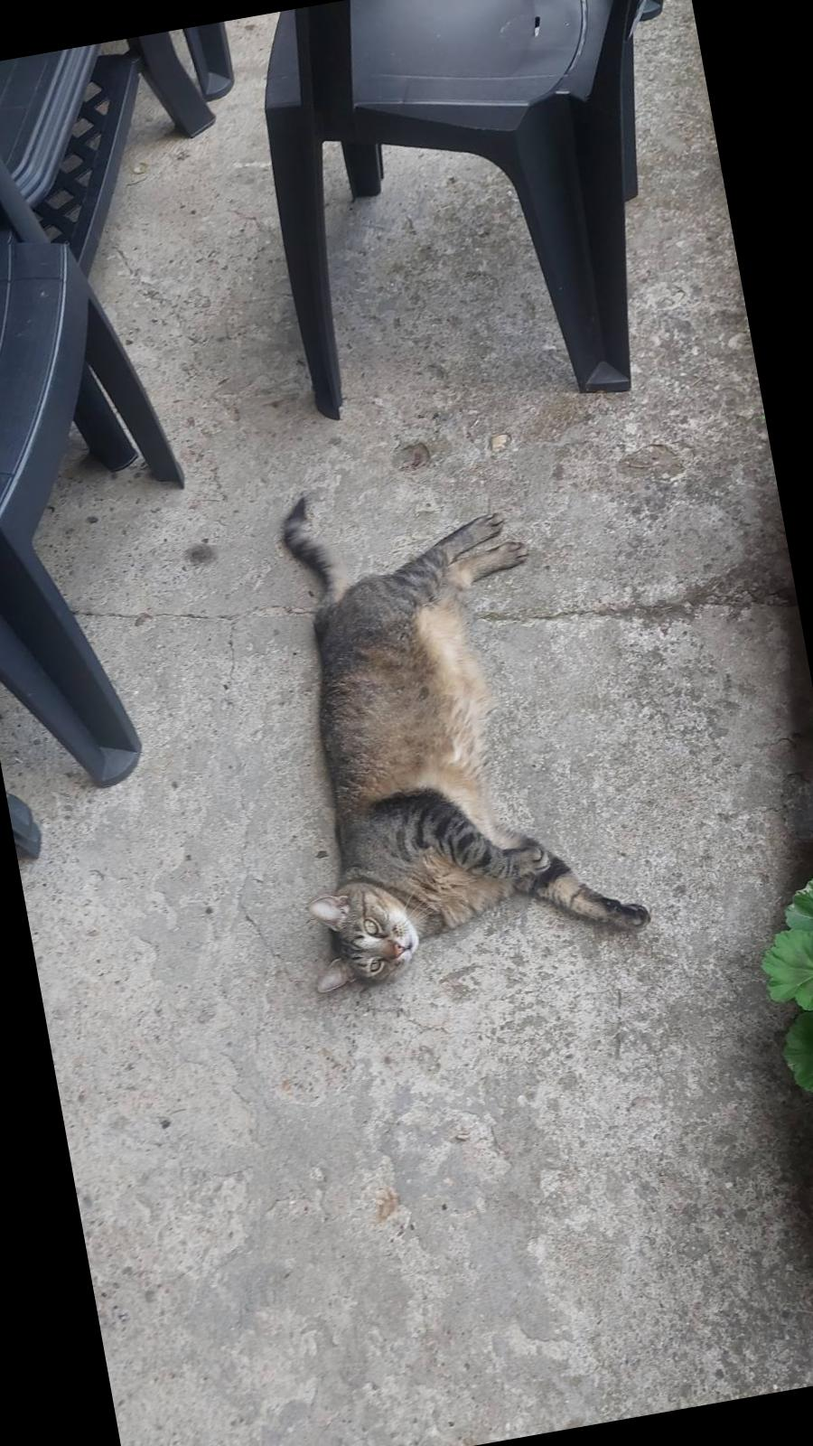macka: (232, 450, 652, 995)
